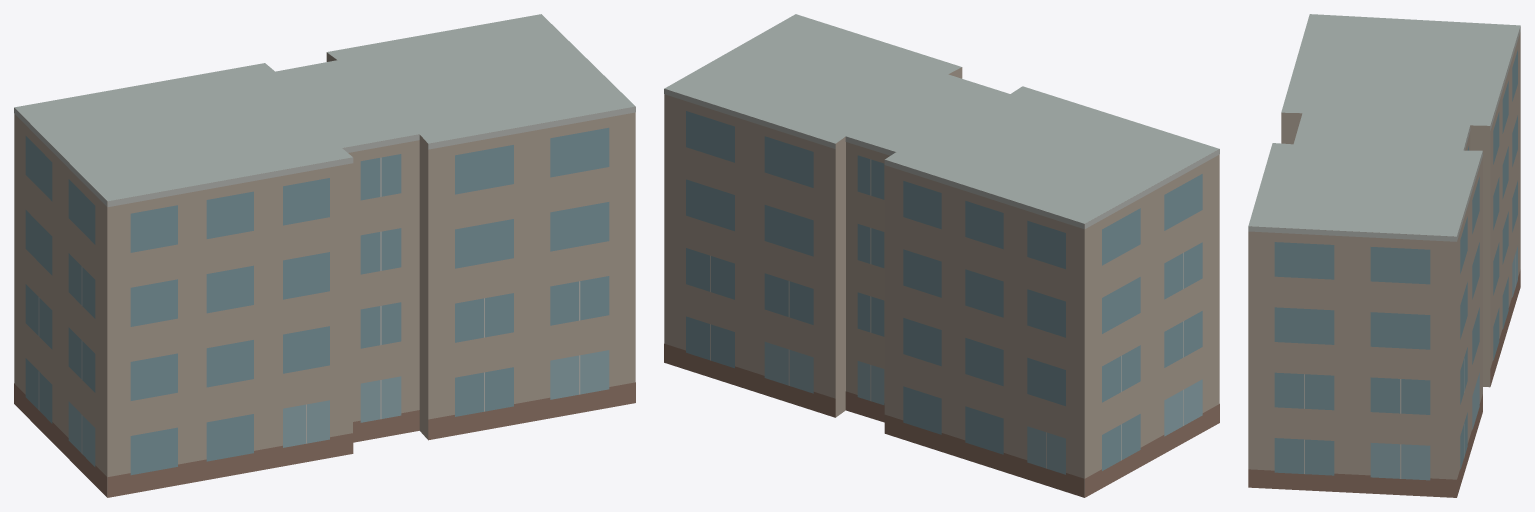
The model's file is survey-upis-32972671.glb.
The picture shows the model from 3 angles, left to right: view 1: azimuth 30°, elevation 25°; view 2: azimuth 150°, elevation 25°; view 3: azimuth 270°, elevation 25°; orthographic projection. The views are drawn at different scales.
Parts seen in each view (by area): view 1: survey-upis-32972671.tmp; view 2: survey-upis-32972671.tmp; view 3: survey-upis-32972671.tmp.
Boxes of the visible parts, bbox=[...] form: survey-upis-32972671.tmp: bbox=[14, 14, 635, 497]; survey-upis-32972671.tmp: bbox=[664, 14, 1219, 497]; survey-upis-32972671.tmp: bbox=[1248, 14, 1520, 497].
Bounding box in the file's own units: 22.3 × 12.2 × 11.54.
